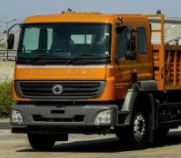truck: (4, 7, 181, 150)
